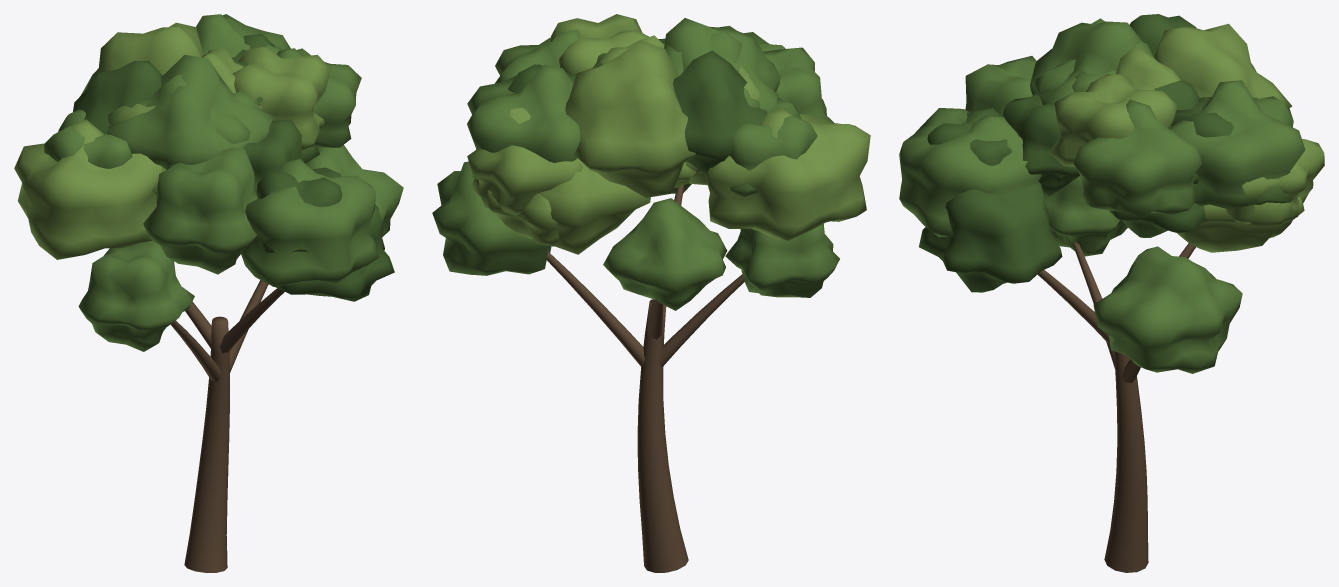
File: model_test_tree.lod0.glb
3 renders of one model, left to right at view 1: azimuth 30°, elevation 25°; view 2: azimuth 150°, elevation 25°; view 3: azimuth 270°, elevation 25°, orthographic. The views are drawn at different scales.
Visible parts, largest first — view 1: test_tree_leaves, test_tree_wood; view 2: test_tree_leaves, test_tree_wood; view 3: test_tree_leaves, test_tree_wood.
Boxes of the visible parts, x1,y1,x2,y2 form: test_tree_leaves: (14,14,403,351); test_tree_wood: (170,280,284,572); test_tree_leaves: (432,14,870,310); test_tree_wood: (547,185,744,572); test_tree_leaves: (899,14,1324,373); test_tree_wood: (1037,242,1195,572).
Bounding box in the file's own units: 9.77 × 12.82 × 9.23.
